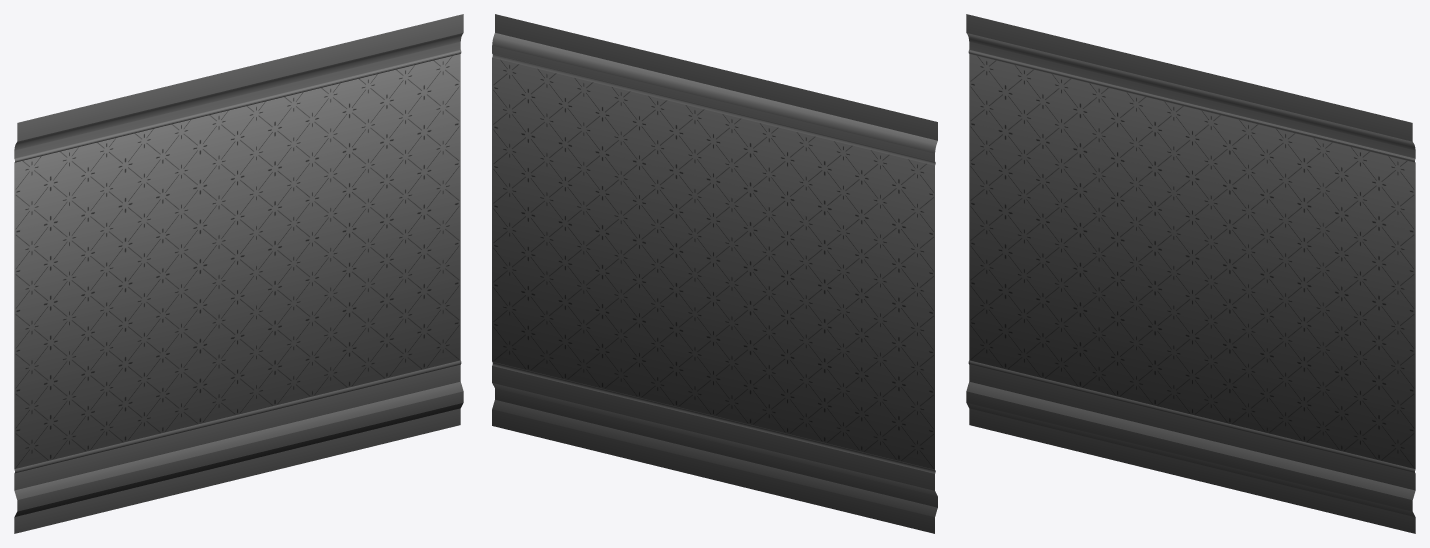
File: Wall_02_Light.fbx
3 views of the same model, side by side, from view 1: azimuth 30°, elevation 25°; view 2: azimuth 150°, elevation 25°; view 3: azimuth 330°, elevation 25° (orthographic).
Parts seen in each view (by area): view 1: Wall_02_Light; view 2: Wall_02_Light; view 3: Wall_02_Light.
Boxes of the visible parts, x1,y1,x2,y2 form: Wall_02_Light: (14,14,463,533); Wall_02_Light: (492,14,937,533); Wall_02_Light: (966,14,1415,533).
Size of the model in its own units: 3 by 2.65 by 0.0329.
